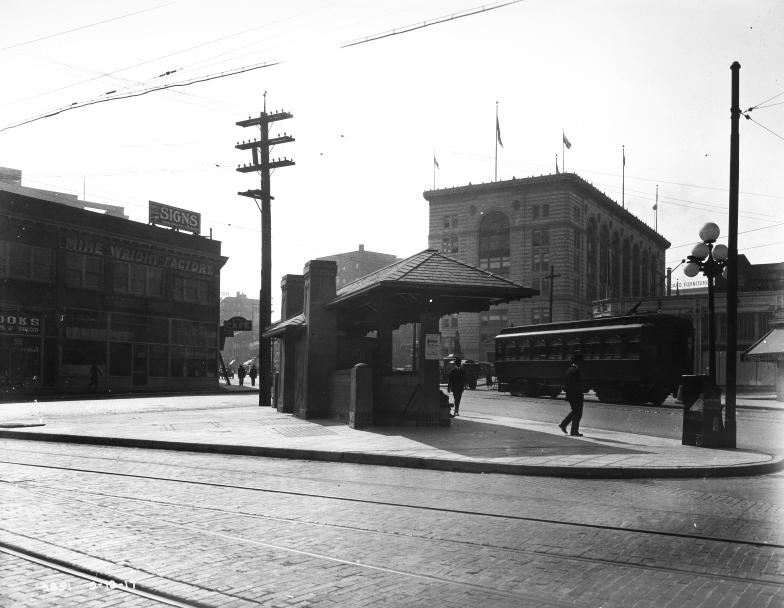fachada: (0, 176, 219, 400), (267, 250, 533, 426), (426, 167, 670, 357)
poste: (229, 97, 293, 396), (719, 64, 750, 463), (677, 206, 724, 454)
